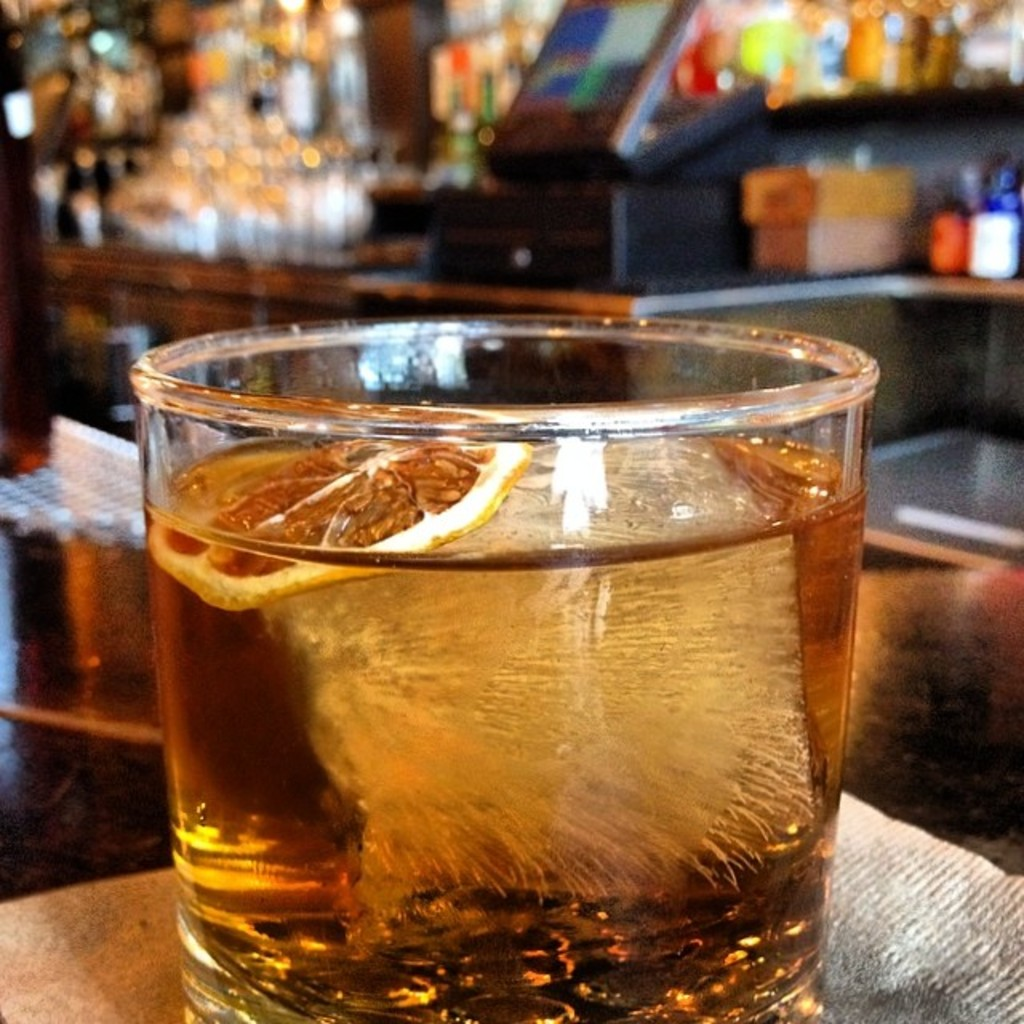Beer: (127, 313, 879, 1023)
